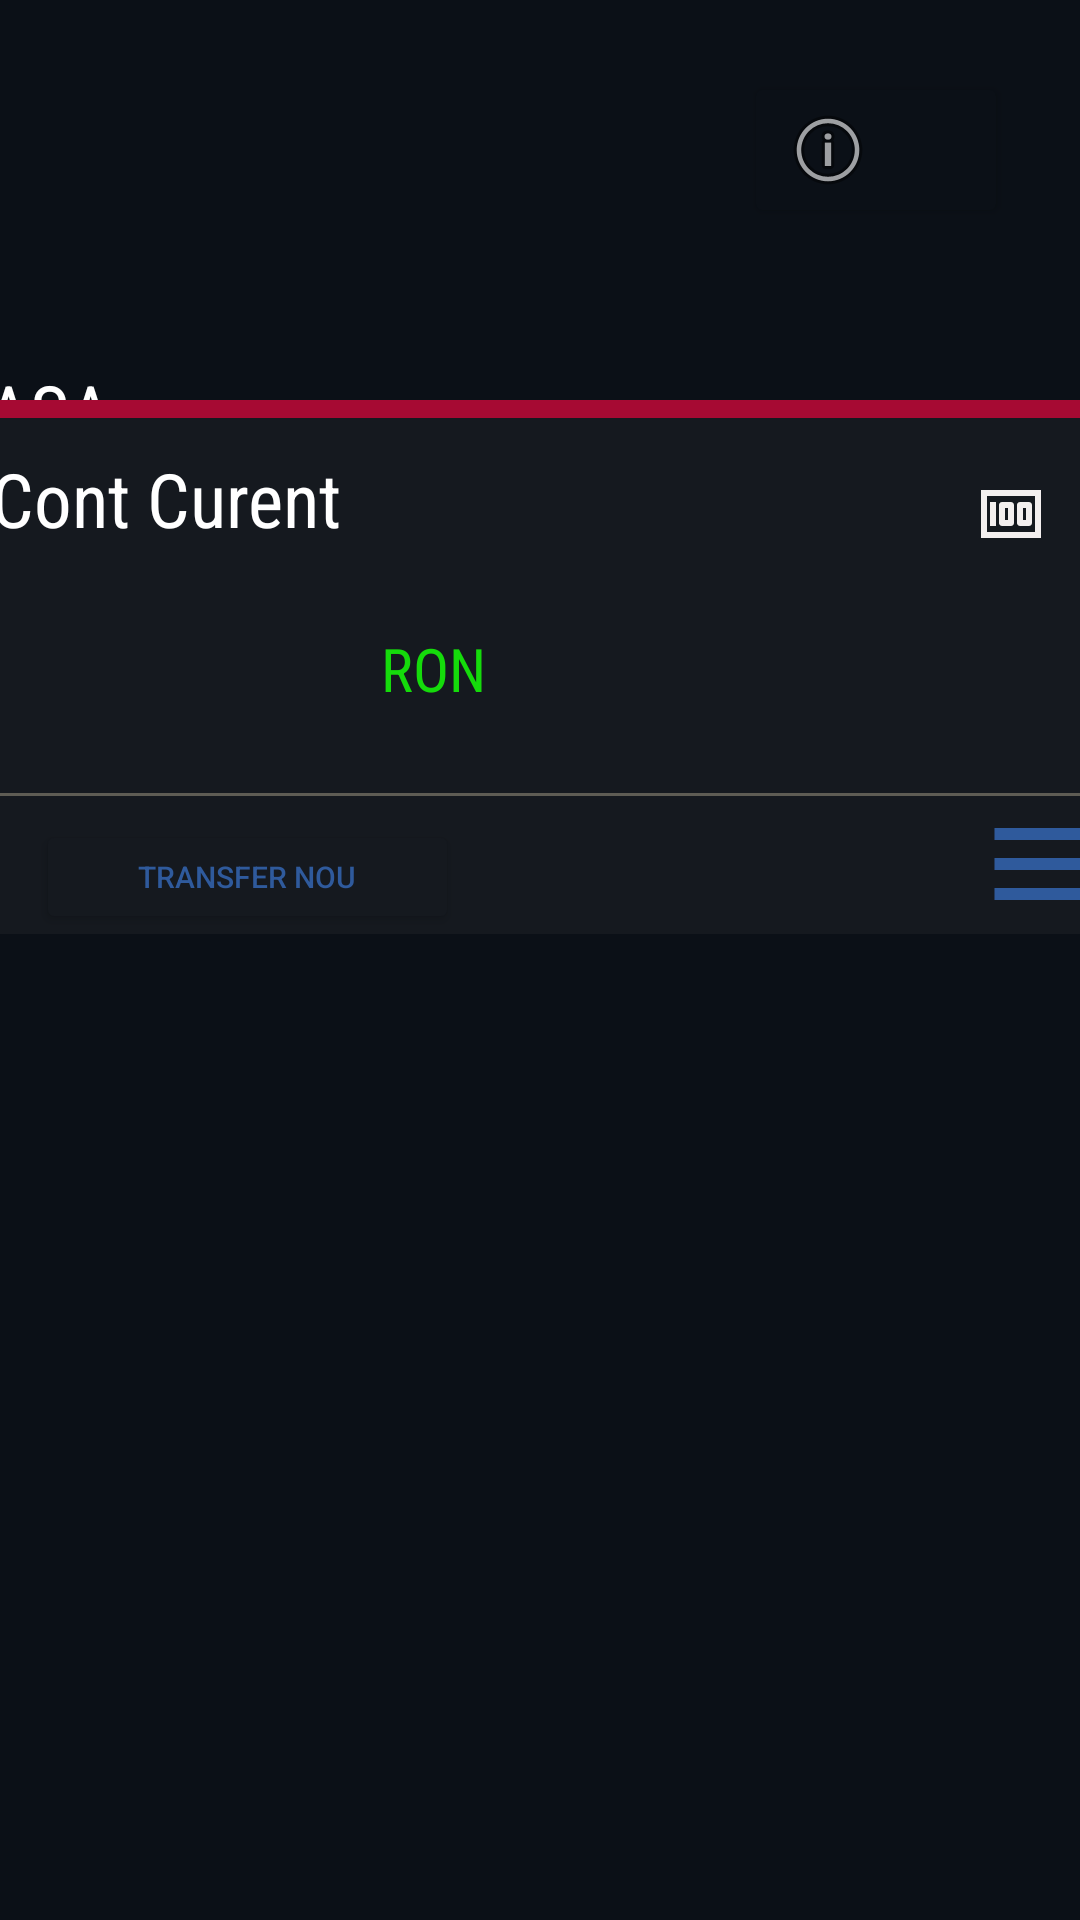

Named icons in this screenshot (1080 × 1920) and their centers, (x=x, y=y):
money: (x=1011, y=514)
